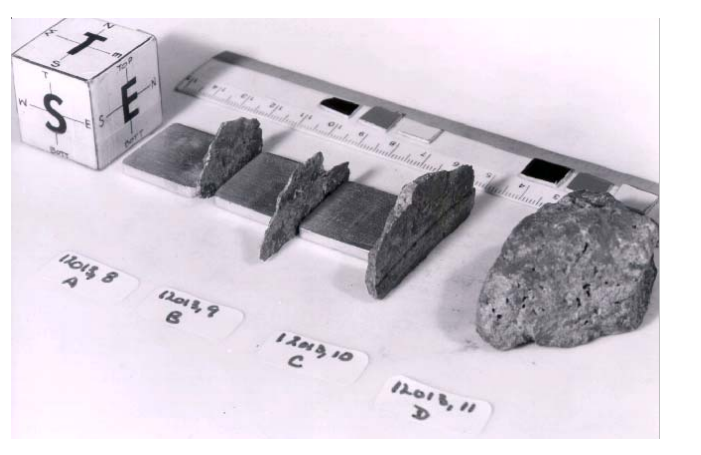Breccia: (191, 95, 655, 367)
